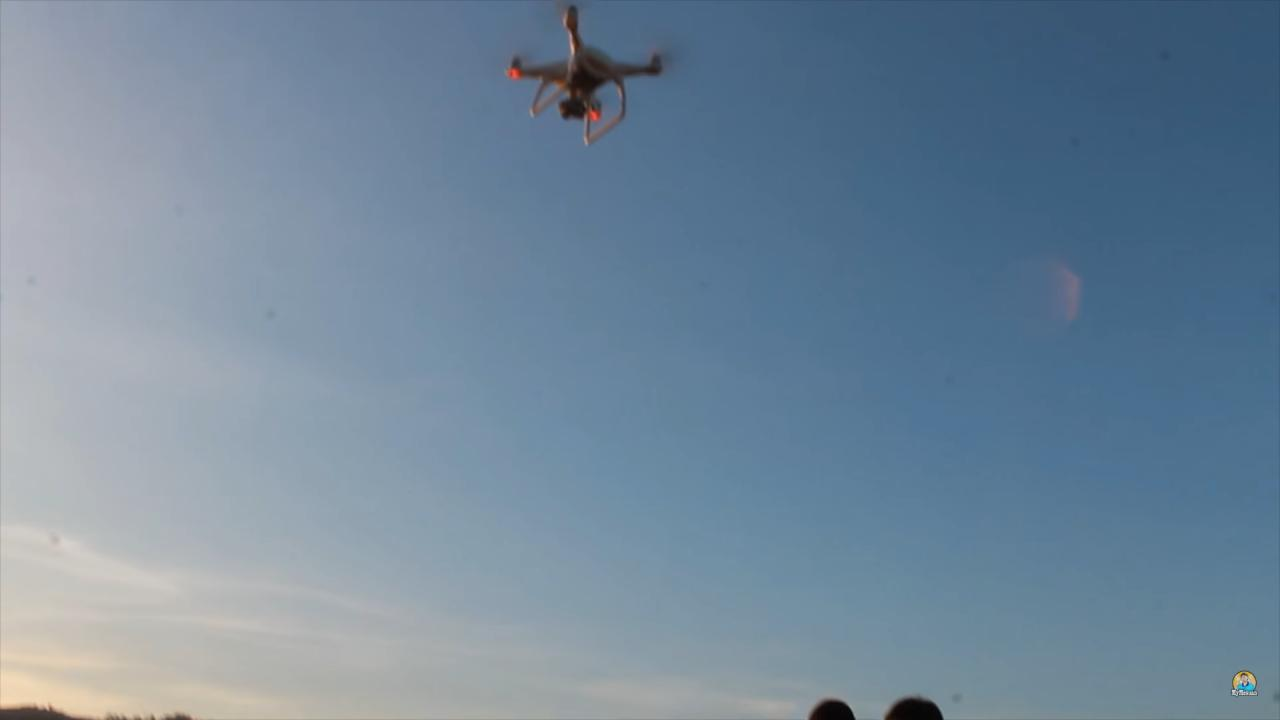Drone: (496, 0, 672, 156)
